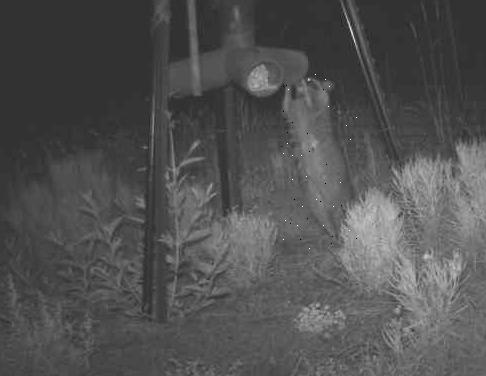Raccoon: (280, 74, 360, 250)
